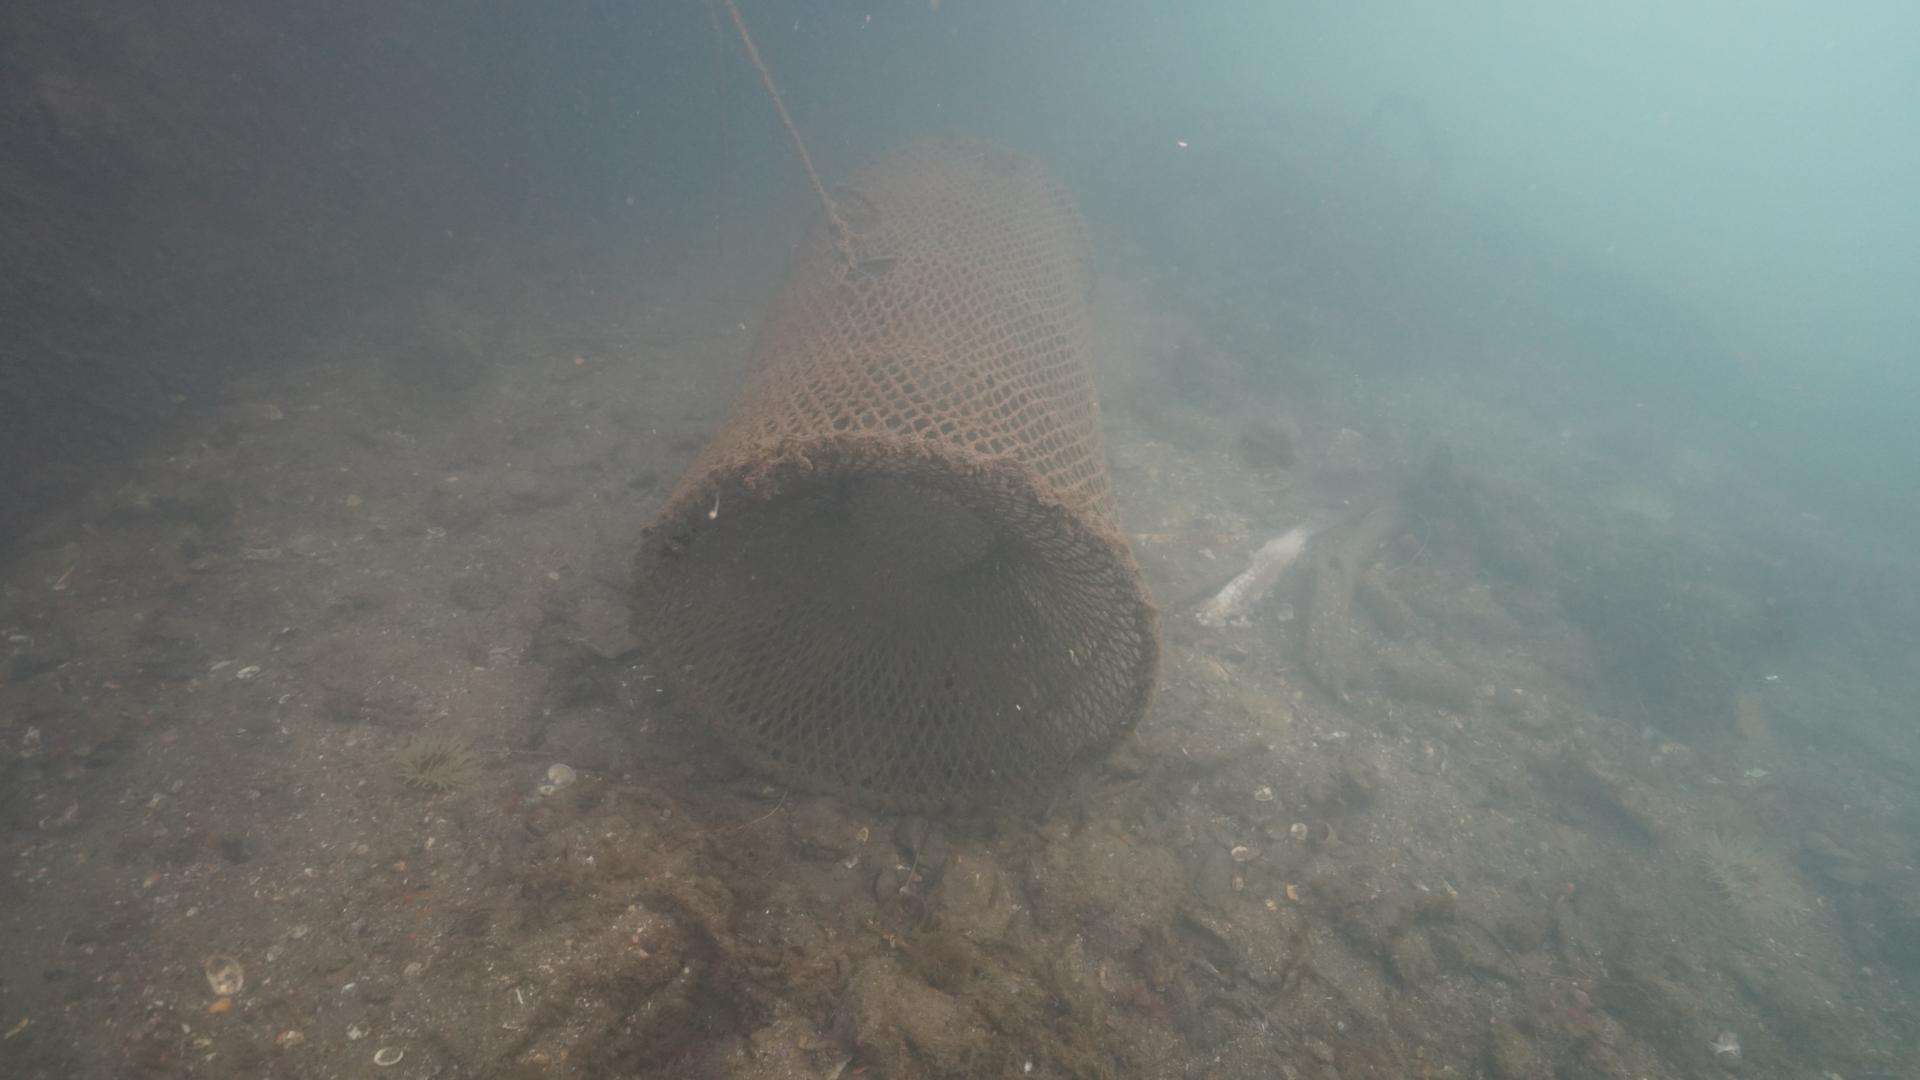rope: (721, 0, 845, 233)
spring fish trap: (625, 123, 1170, 818)
